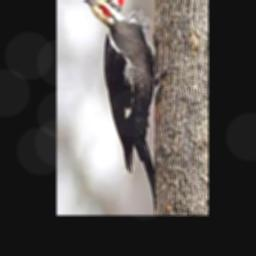Woodpecker: (81, 0, 174, 213)
